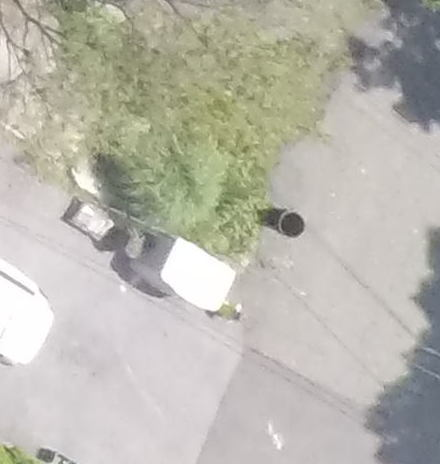container: (268, 204, 310, 245)
trash bin: (265, 196, 305, 242)
